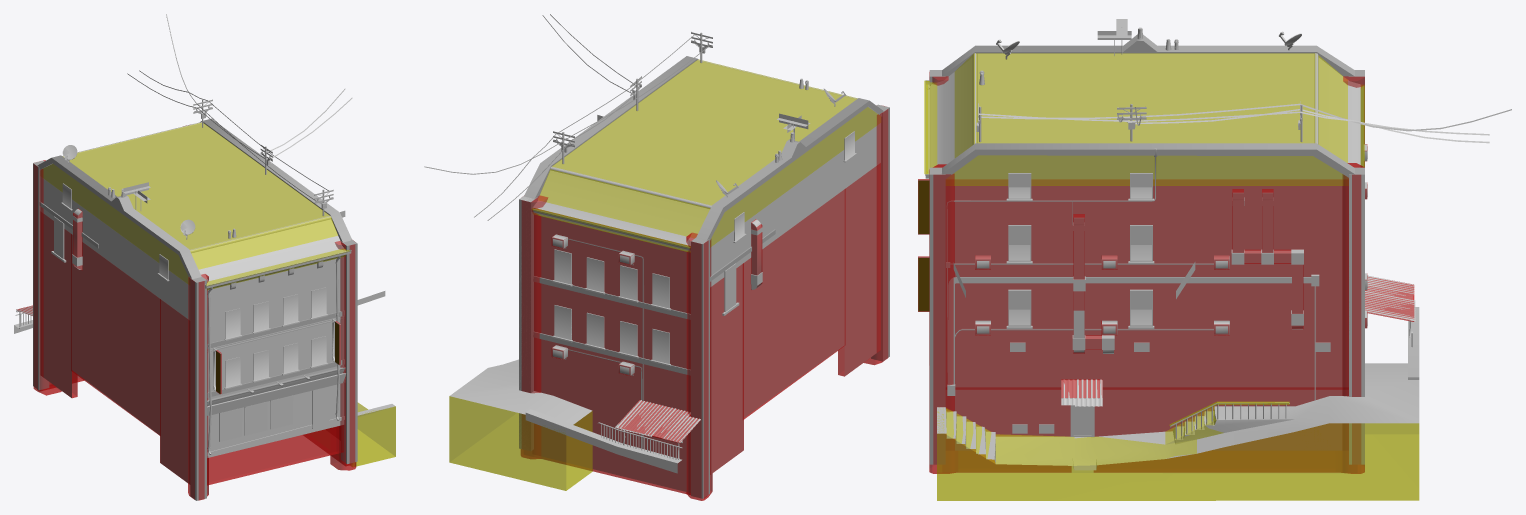
Rendered from CT_building_013.dae.
3 views of the same model, side by side, from view 1: azimuth 30°, elevation 25°; view 2: azimuth 150°, elevation 25°; view 3: azimuth 270°, elevation 25° (orthographic). The views are drawn at different scales.
Parts seen in each view (by area): view 1: _013_building800, ColMesh-3, ColMesh-2, _013_building400, _013_building100; view 2: _013_building800, ColMesh-3, ColMesh-2, _013_building400, _013_building100; view 3: _013_building800, ColMesh-3, ColMesh-2, _013_building100, _013_building400.
Boxes of the visible parts, x1,y1,x2,y2 form: _013_building800: (14,14,394,500); ColMesh-3: (16,125,356,500); ColMesh-2: (40,122,395,466); _013_building400: (19,99,395,436); _013_building100: (40,166,392,480); _013_building800: (424,15,889,498); ColMesh-3: (521,105,888,500); ColMesh-2: (449,59,880,490); _013_building400: (519,14,854,458); _013_building100: (534,107,880,491); _013_building800: (918,19,1511,470); ColMesh-3: (918,72,1414,473); ColMesh-2: (924,53,1419,500); _013_building100: (937,47,1348,464); _013_building400: (918,28,1415,464).
Bounding box in the file's own units: 177 × 226 × 296.
